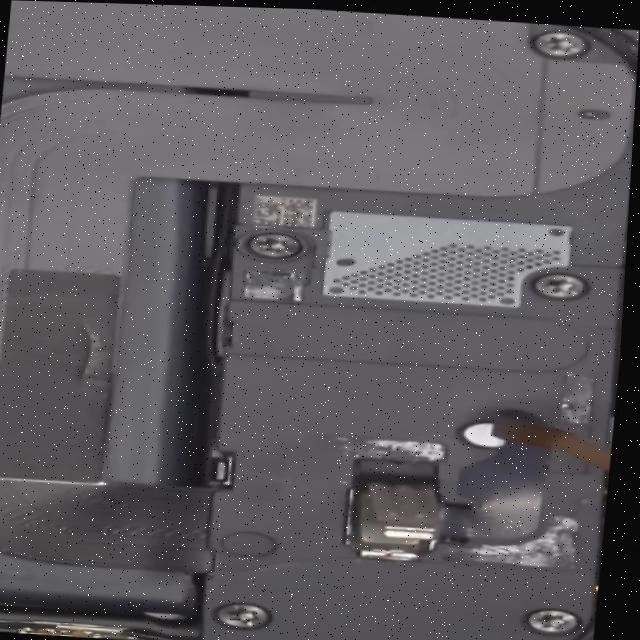Torx: (527, 28, 594, 61), (527, 270, 594, 302), (212, 600, 273, 631), (241, 230, 304, 260), (523, 607, 582, 636)
